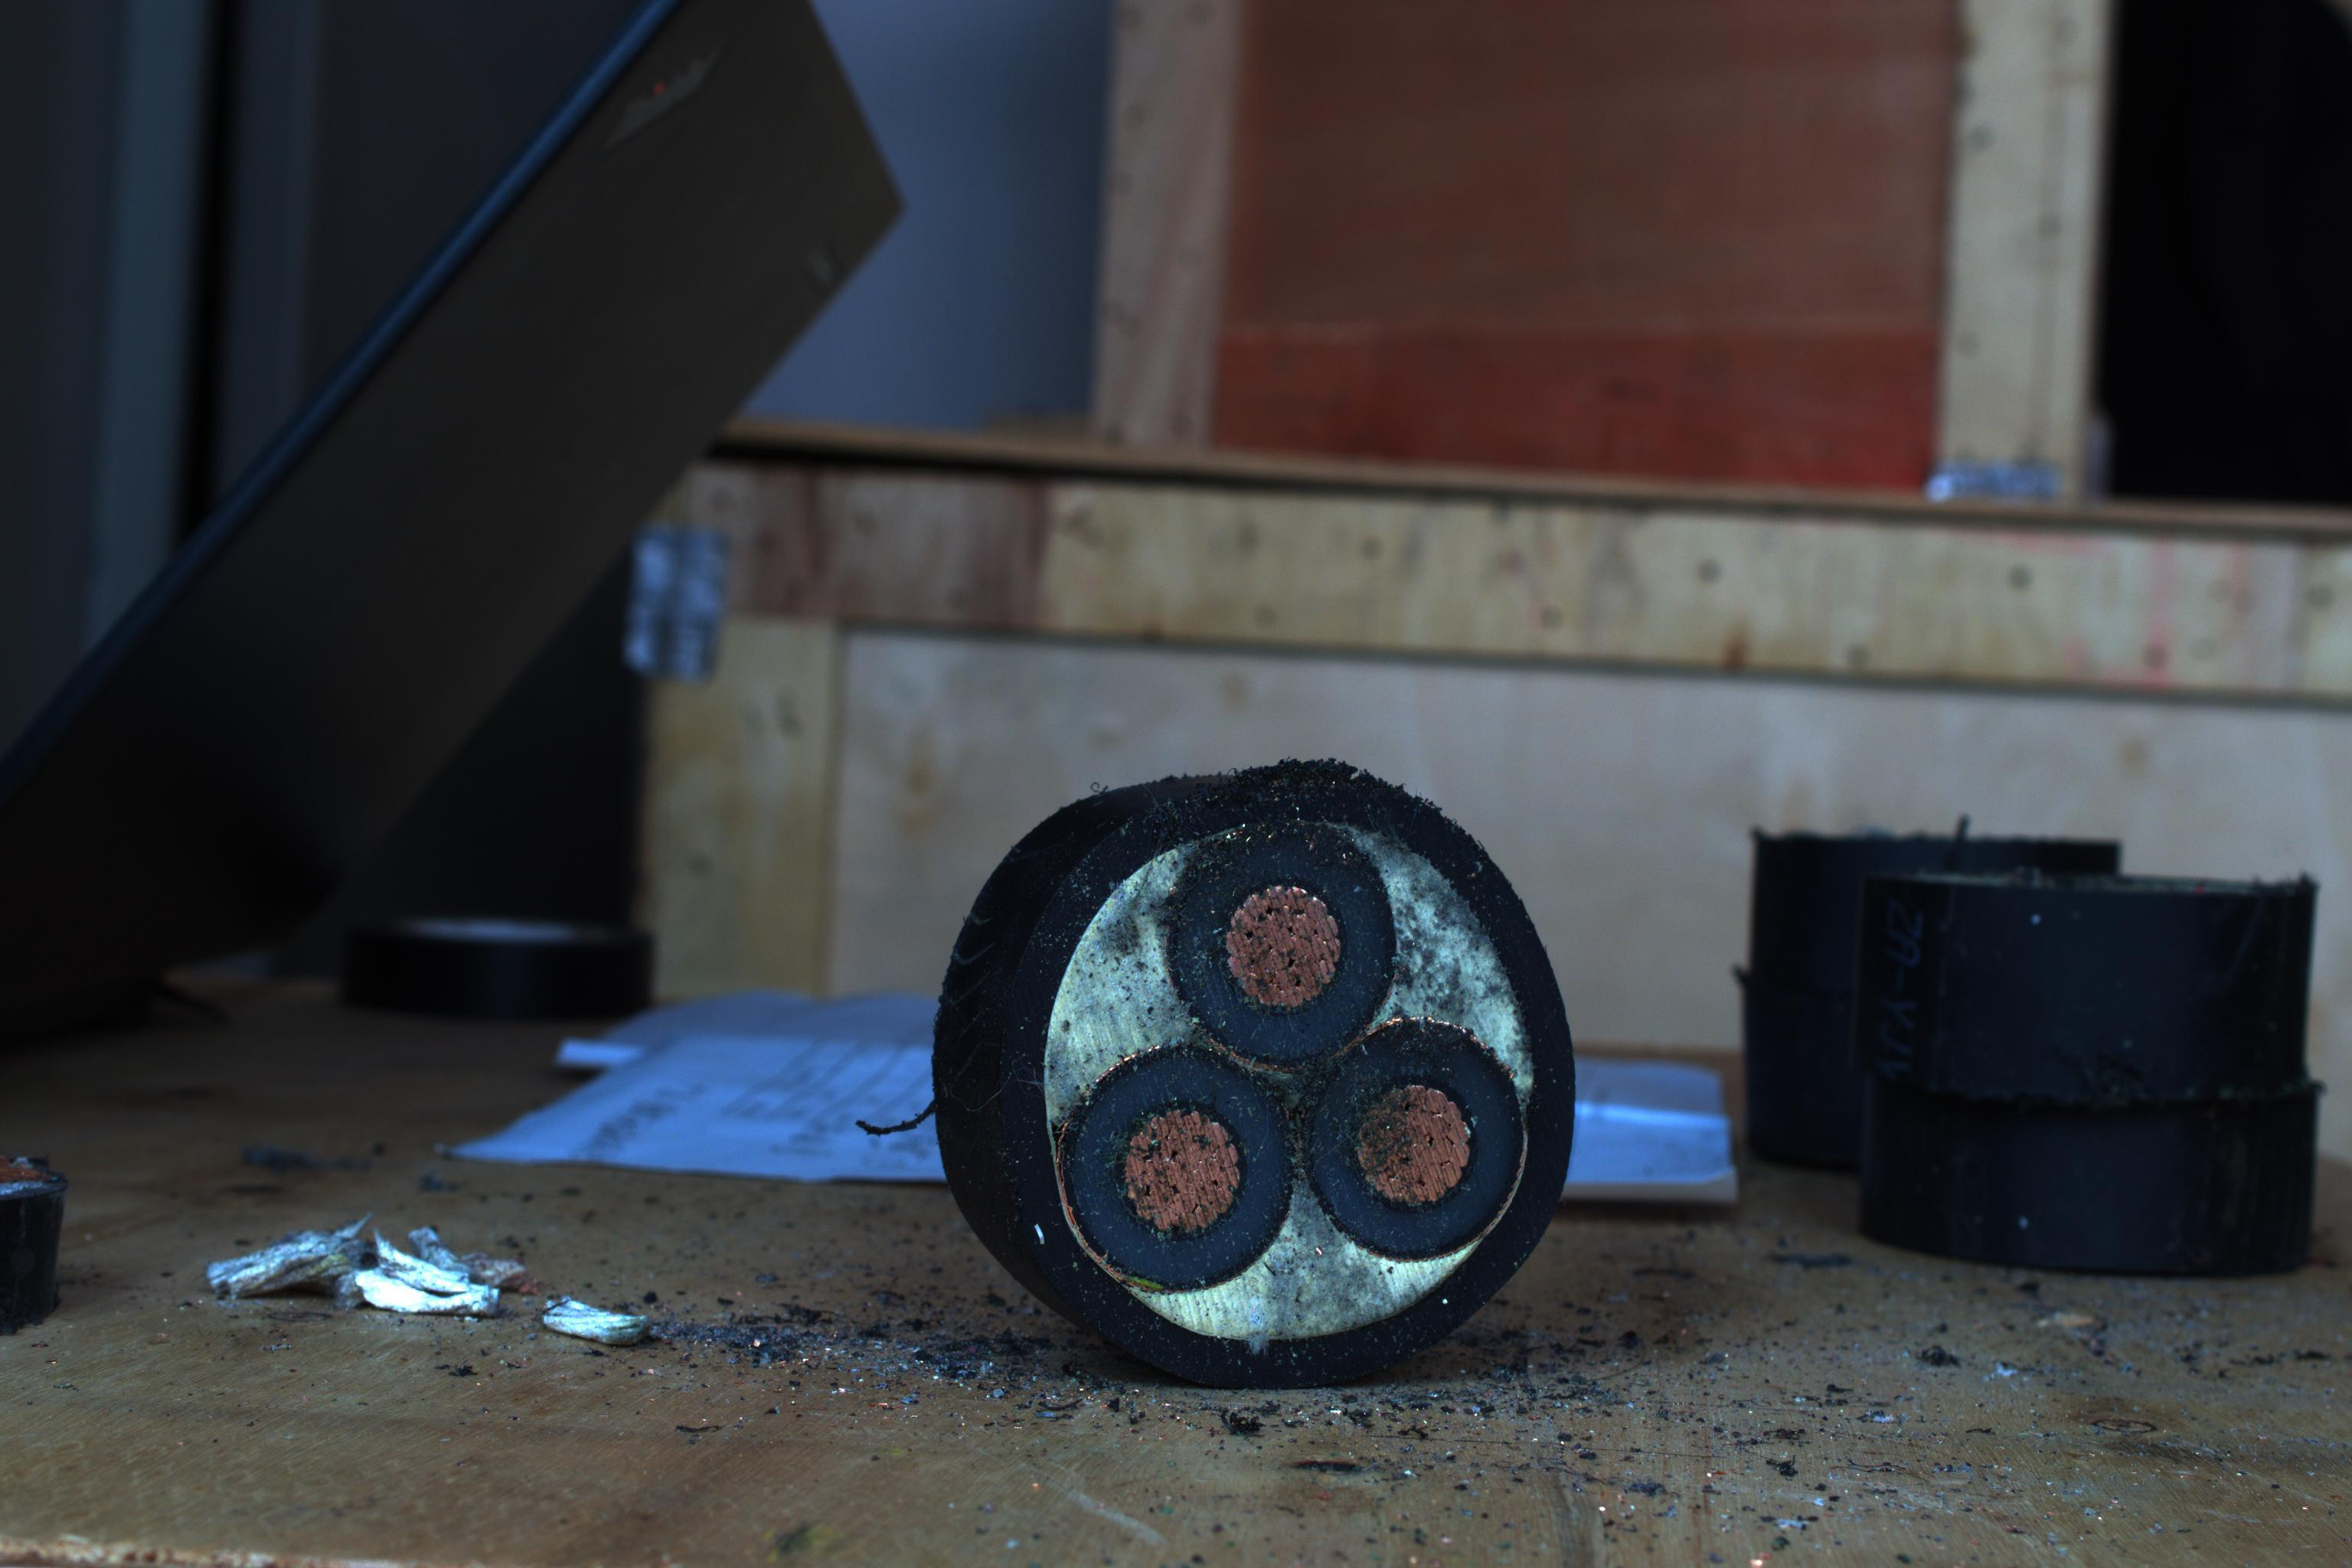ZA_YJV_8.7_10kV_3x120: (1022, 747, 1573, 1354)
